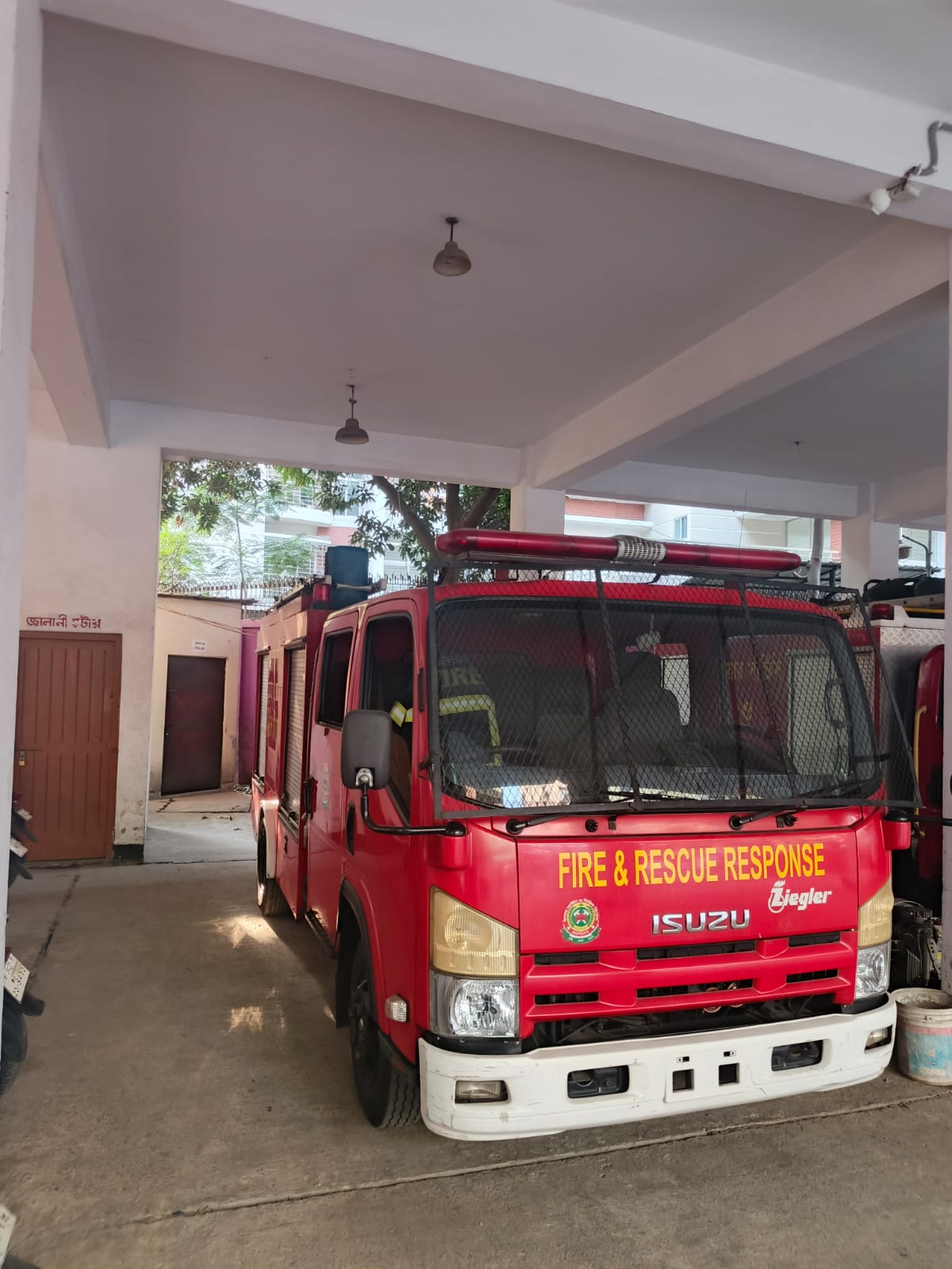Fire truck: (230, 516, 952, 1217)
